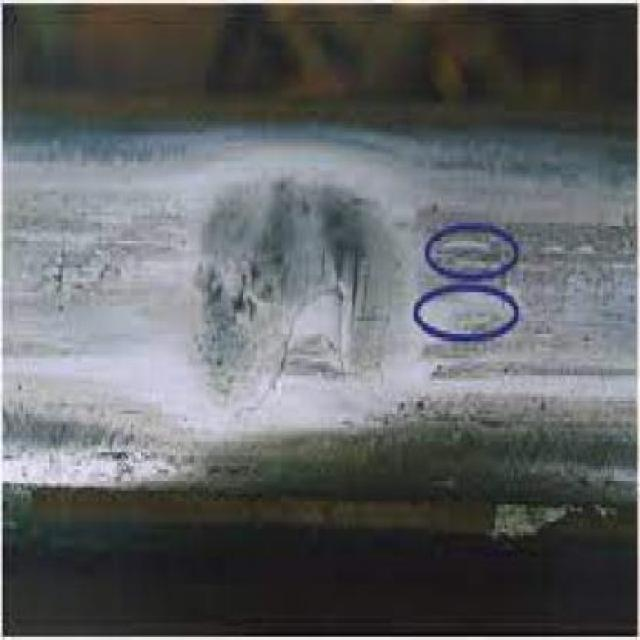defective: (161, 94, 541, 526)
